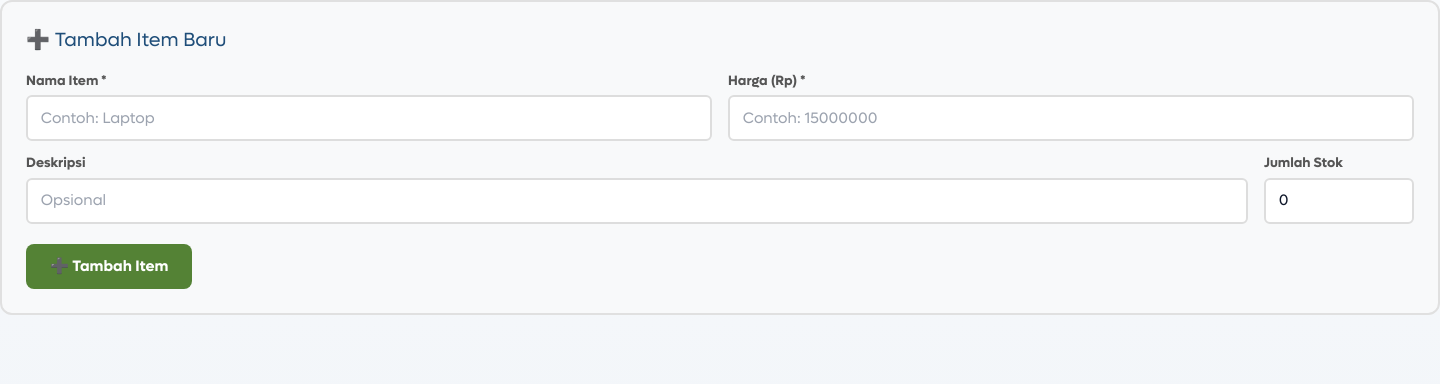
ItemForm Component › menampilkan validasi saat harga tidak valid
Type "Laptop" into the field with placeholder "Contoh: Laptop".
click(369, 118); type("Laptop")  # box x1=26 y1=95 x2=712 y2=141
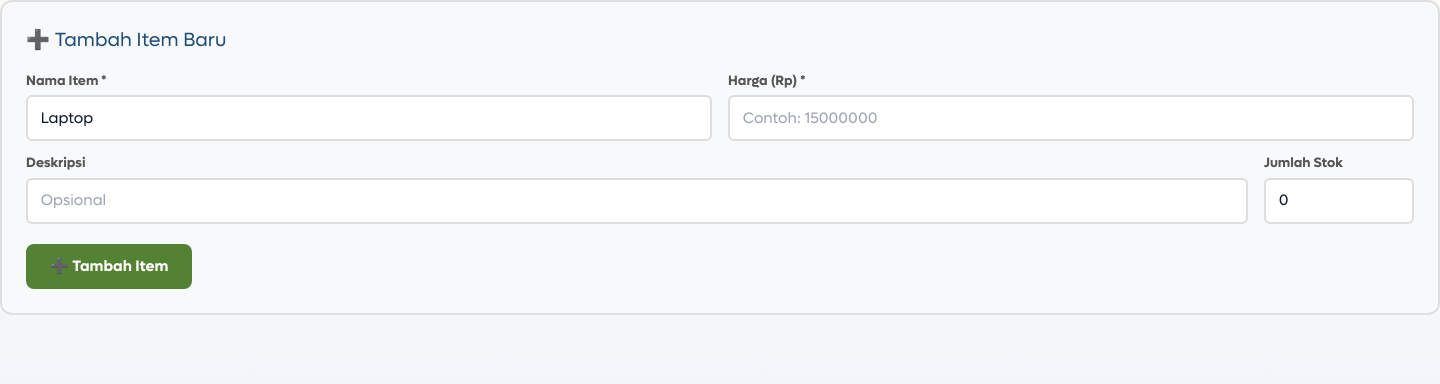
Type "0" into the number field with placeholder "Contoh: 15000000".
click(1071, 118); type("0")  # box x1=728 y1=95 x2=1414 y2=141
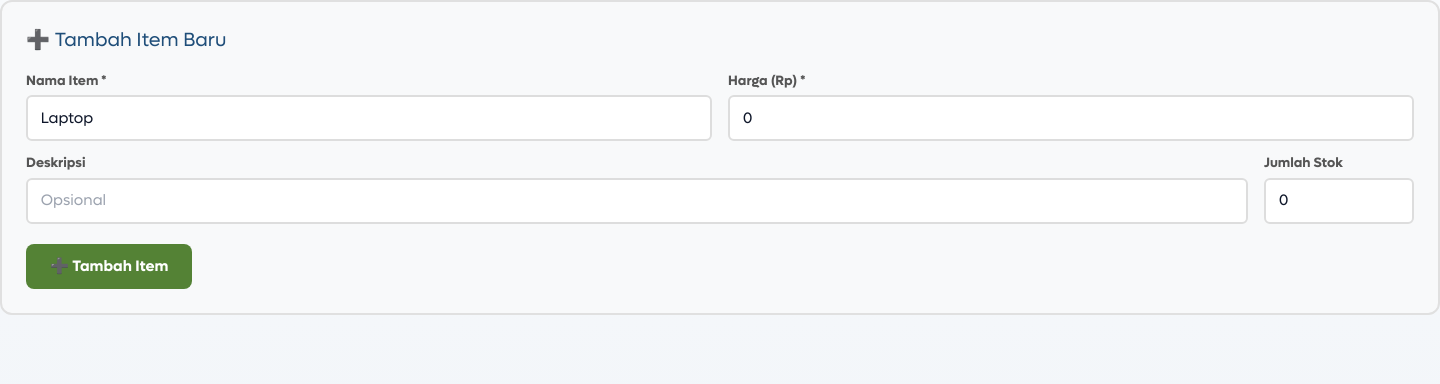
Click the button "➕ Tambah Item".
click(109, 266)  # box x1=26 y1=244 x2=192 y2=289
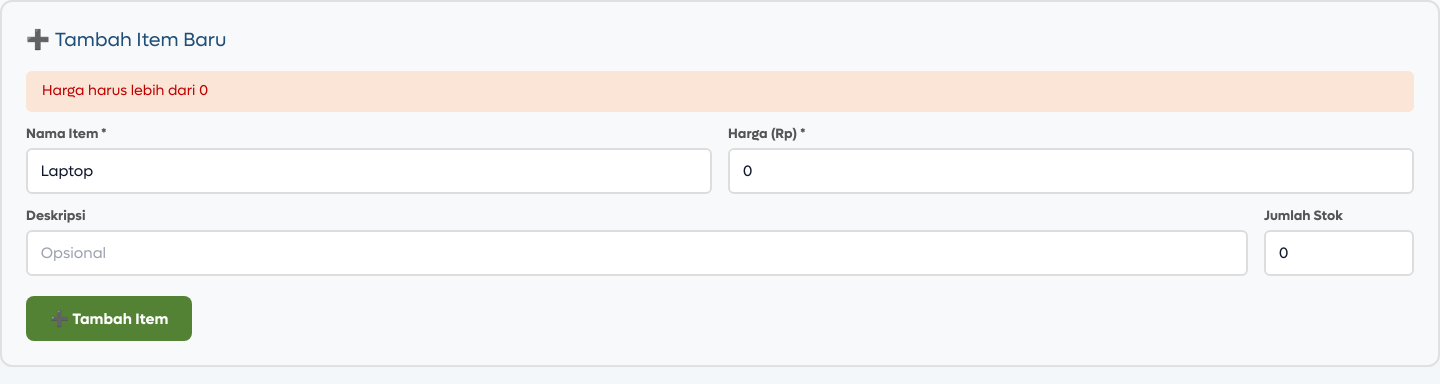
Now the text "Harga harus lebih dari 0" is shown, box x1=26 y1=71 x2=1414 y2=112
